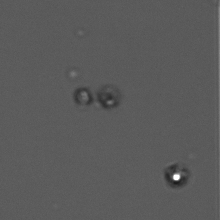Dead Cell: (73, 86, 93, 106), (99, 88, 116, 108)
Living Cell: (170, 170, 183, 184)
